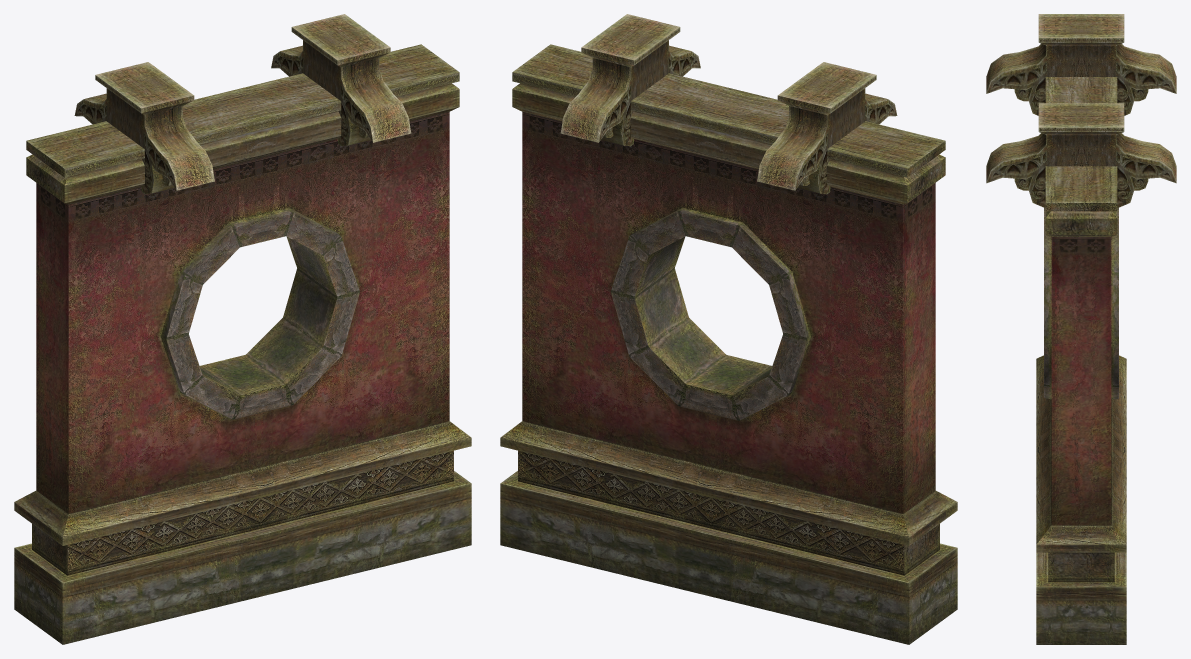
The model's file is fortressa_wall_b_00.fbx.
3 renders of one model, left to right at view 1: azimuth 30°, elevation 25°; view 2: azimuth 150°, elevation 25°; view 3: azimuth 270°, elevation 25°, orthographic. The views are drawn at different scales.
Visible parts, largest first — view 1: fortressA_wall_B_00; view 2: fortressA_wall_B_00; view 3: fortressA_wall_B_00.
Boxes of the visible parts, x1=… form: fortressA_wall_B_00: x1=14, y1=14, x2=471, y2=644; fortressA_wall_B_00: x1=500, y1=14, x2=957, y2=644; fortressA_wall_B_00: x1=986, y1=14, x2=1176, y2=644.
Bounding box in the file's own units: 11.49 × 13.86 × 4.97.
